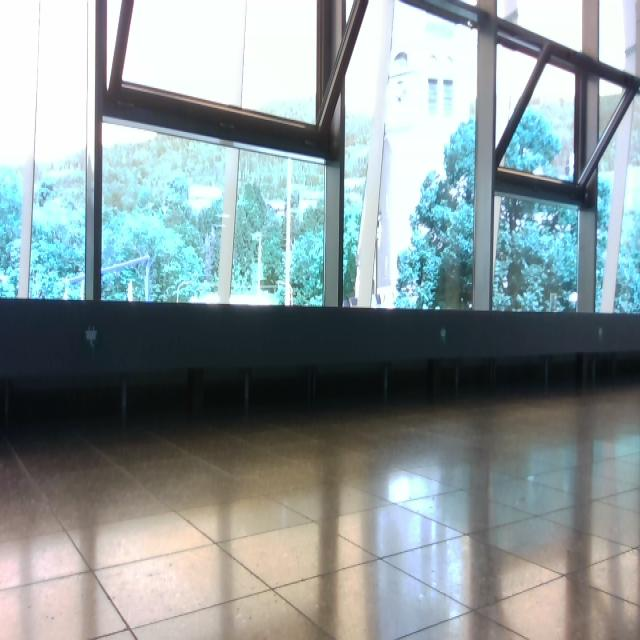light bulb: (388, 476, 411, 504), (127, 280, 134, 302), (550, 293, 558, 312), (569, 292, 578, 304)
tiled floor: (2, 383, 639, 639)
window: (1, 1, 640, 317)
